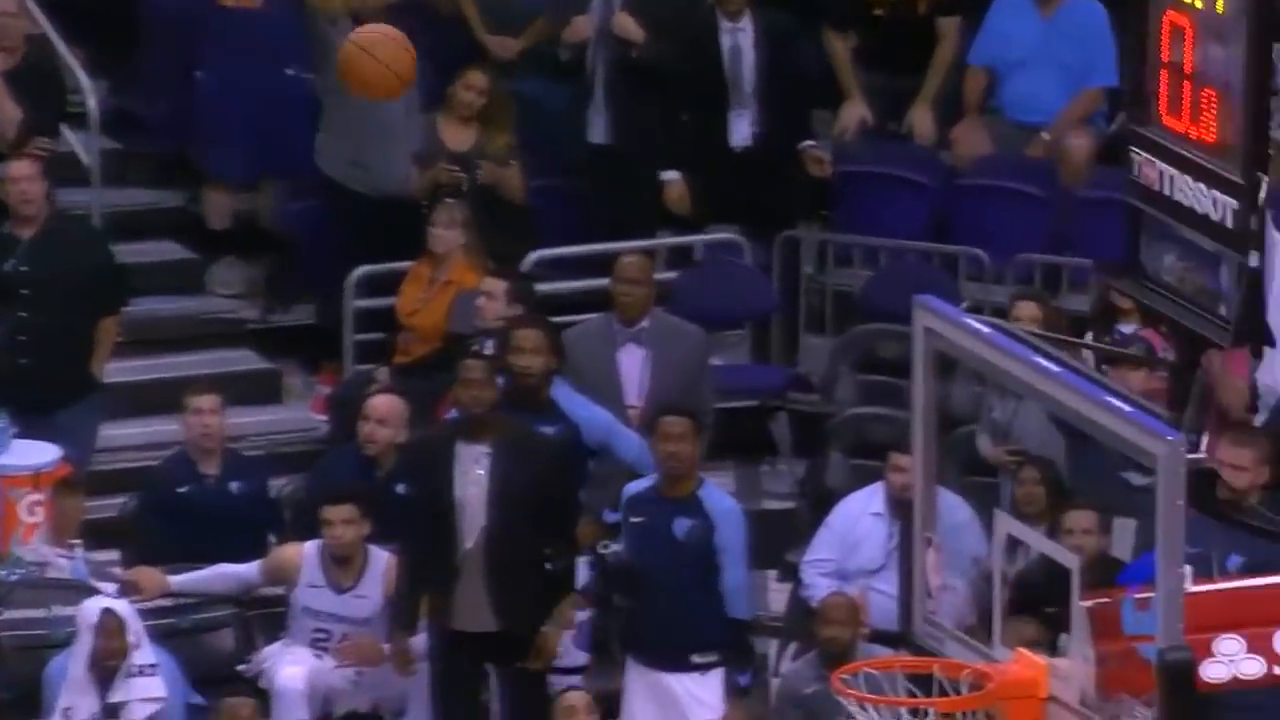ball: (339, 23, 414, 104)
